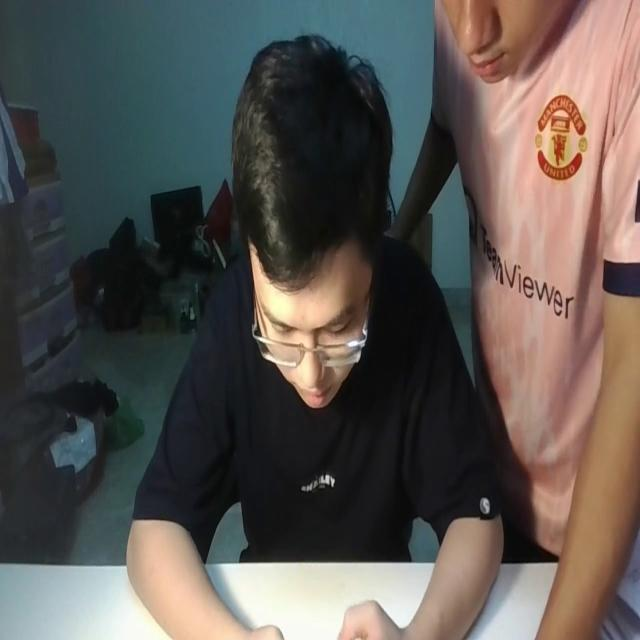extra_person: (390, 0, 640, 640)
student: (126, 33, 507, 640)
